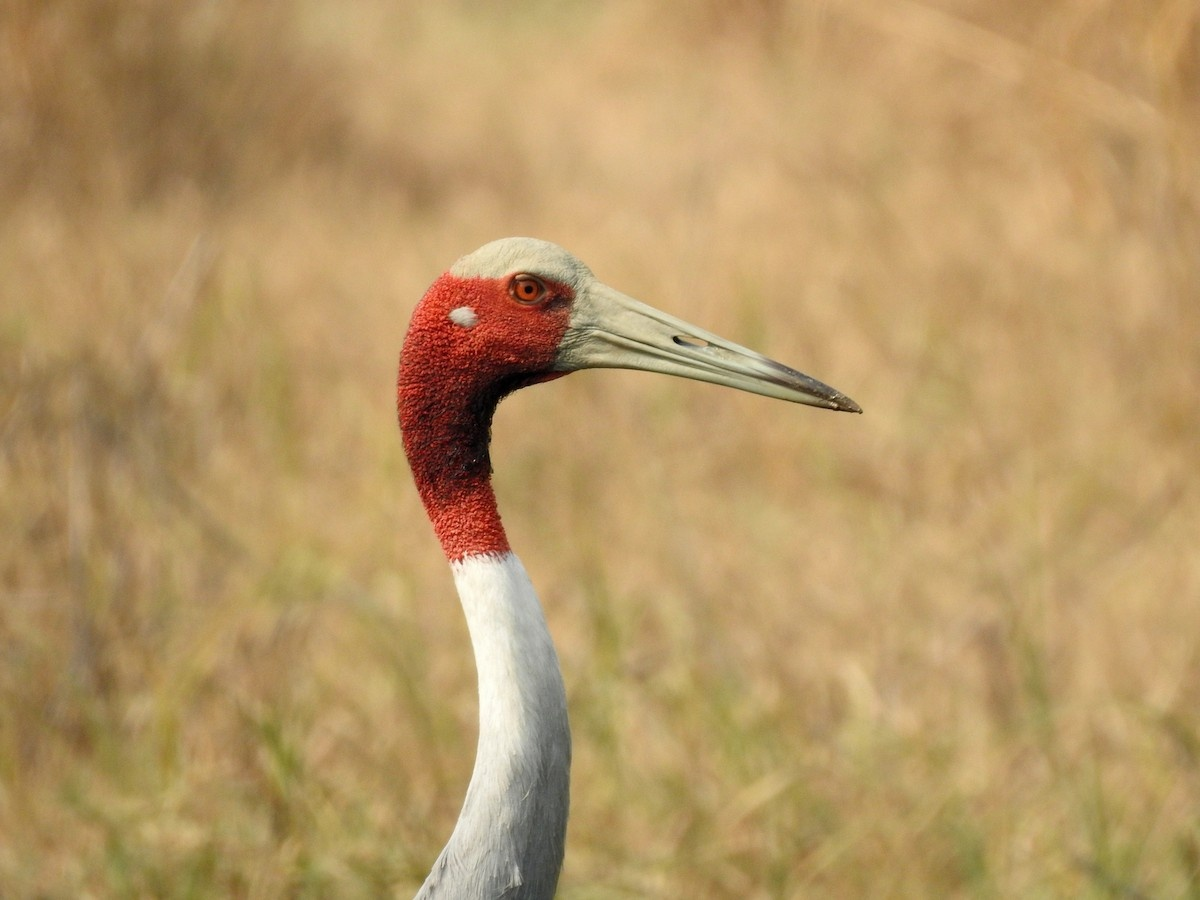crane: (381, 215, 877, 683)
